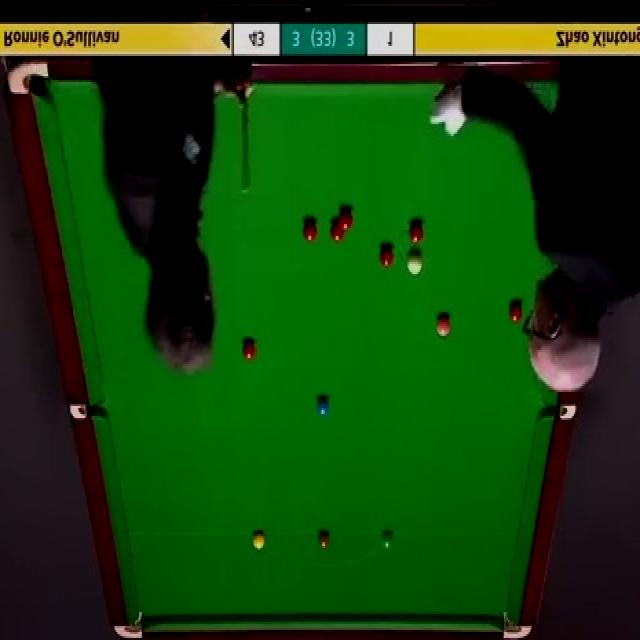pocket: (8, 63, 50, 97), (500, 608, 534, 640), (113, 612, 143, 640), (66, 402, 102, 422), (540, 405, 574, 420)
